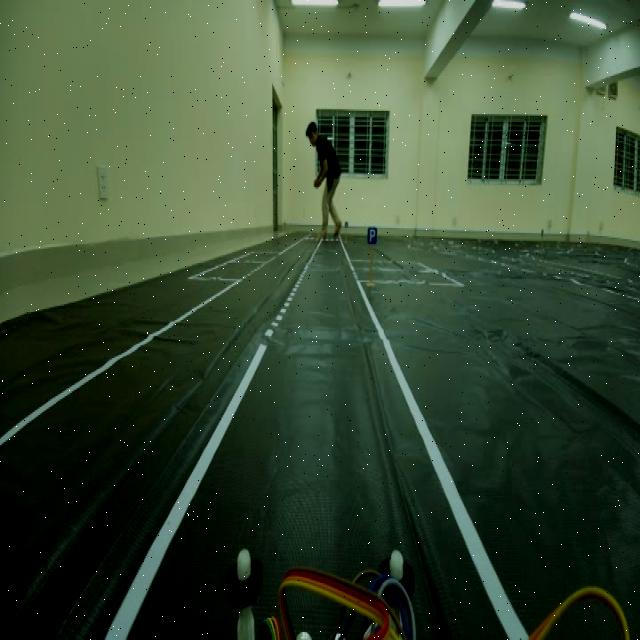parking: (366, 220, 379, 249)
